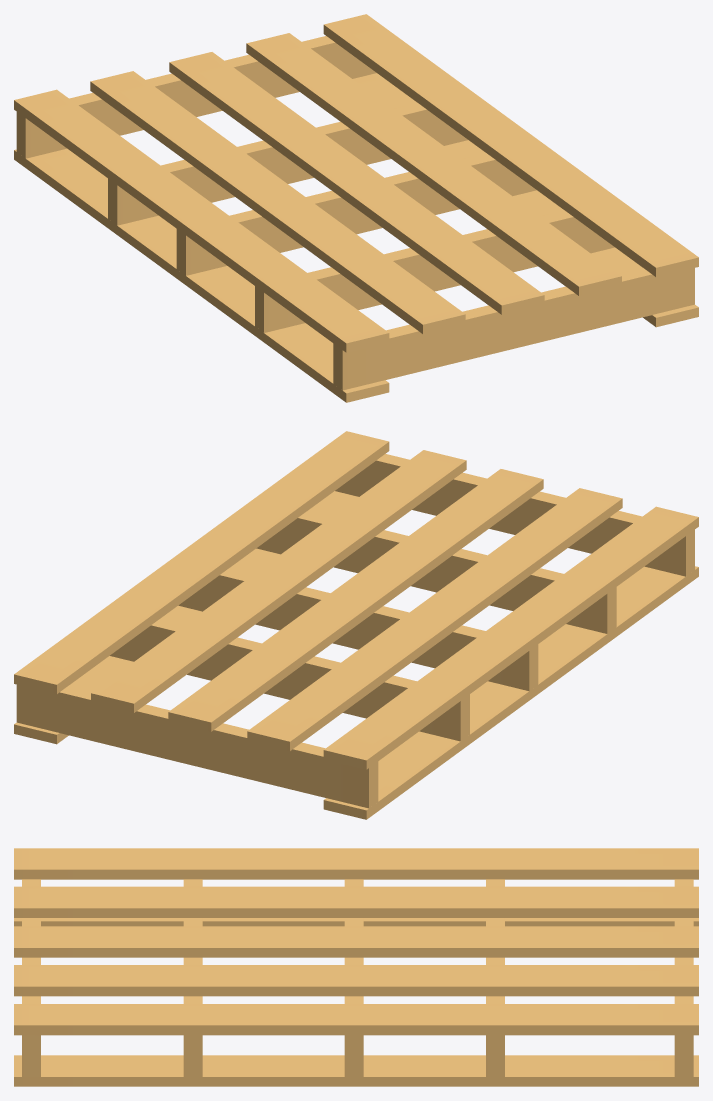
The model's file is WoodenPallet.fbx.
3 views of the same model, one above another, from view 1: azimuth 30°, elevation 25°; view 2: azimuth 150°, elevation 25°; view 3: azimuth 270°, elevation 25° (orthographic). The views are drawn at different scales.
Parts seen in each view (by area): view 1: Cube.003; view 2: Cube.003; view 3: Cube.003.
Part boxes in pixels (x1,y1,x2,y2): Cube.003: (14,14,698,402); Cube.003: (14,431,698,819); Cube.003: (14,848,698,1086).
Size of the model in its own units: 15.57 by 2.51 by 25.43.
